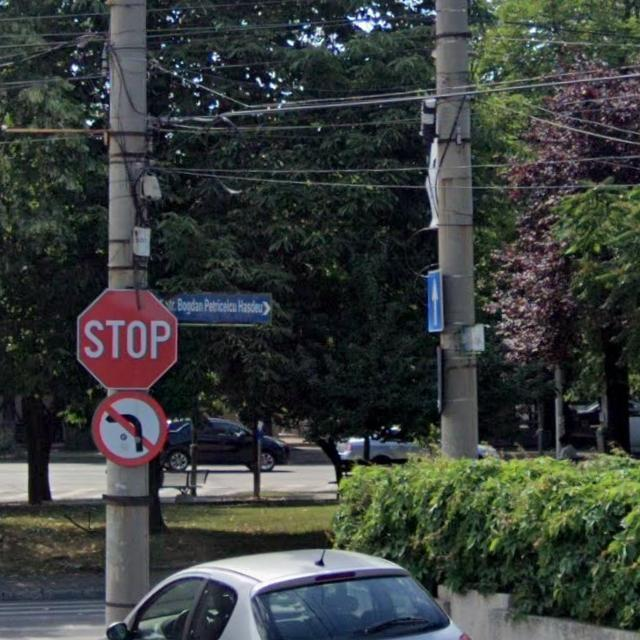prio_stop: (76, 281, 178, 392)
